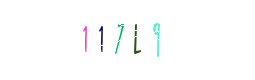1: (45, 0, 125, 80), (80, 0, 160, 80)
7: (80, 0, 160, 80)
9: (107, 0, 187, 80)
L: (87, 0, 167, 80)
